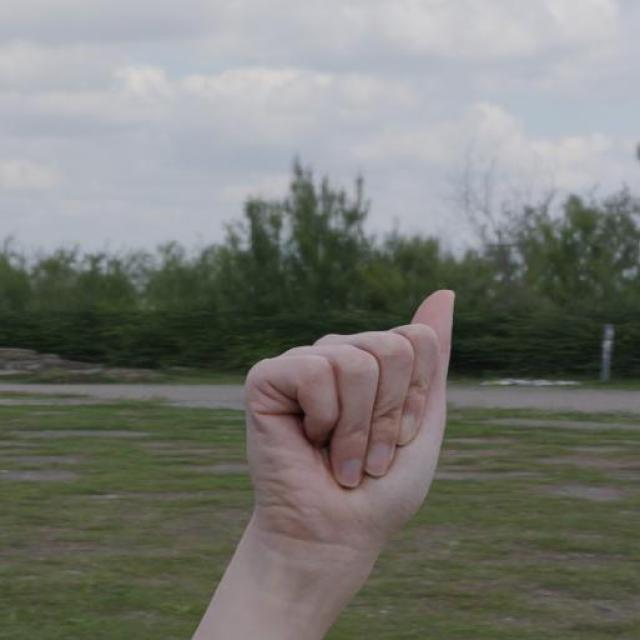A: (240, 286, 457, 540)
